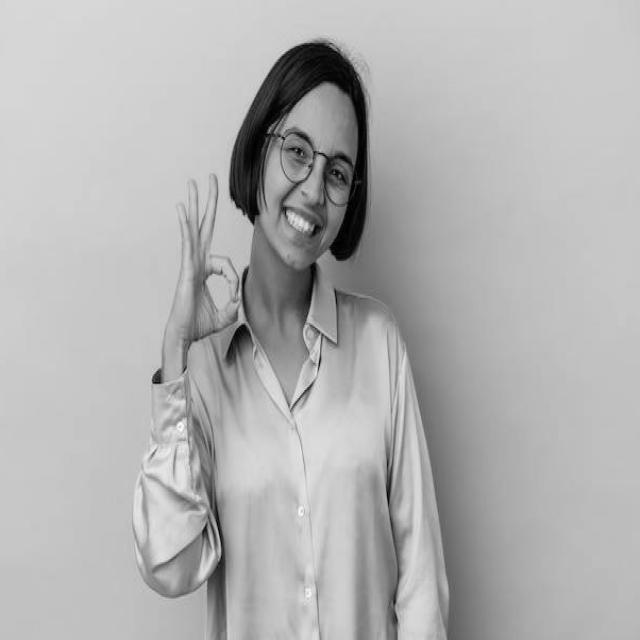perfect: (164, 166, 245, 356)
